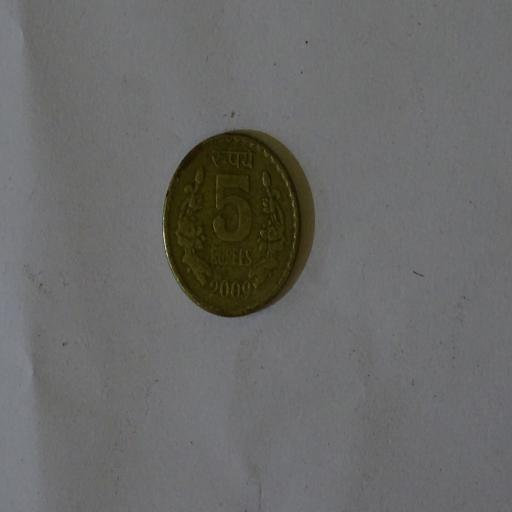rupee5: (161, 132, 304, 318)
